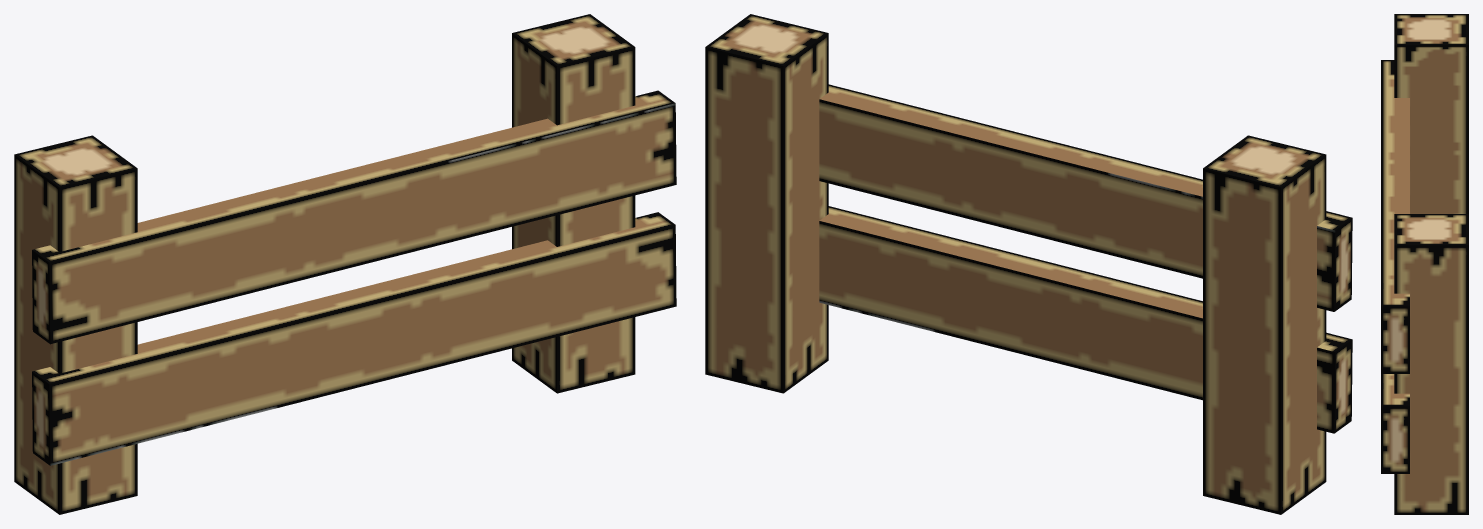
The model's file is deco_cathedral_fenceLong.FBX.
3 views of the same model, side by side, from view 1: azimuth 30°, elevation 25°; view 2: azimuth 150°, elevation 25°; view 3: azimuth 270°, elevation 25° (orthographic). The views are drawn at different scales.
Parts seen in each view (by area): view 1: deco_cathedral_fenceLong; view 2: deco_cathedral_fenceLong; view 3: deco_cathedral_fenceLong.
Part boxes in pixels (box(x1,y1,x2,y2)): deco_cathedral_fenceLong: box(14, 14, 676, 514); deco_cathedral_fenceLong: box(705, 14, 1352, 514); deco_cathedral_fenceLong: box(1381, 14, 1468, 514).
Size of the model in its own units: 4.01 by 2 by 0.5897.
1 material, 1 textured.
